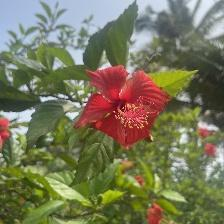hibiscus: (75, 64, 174, 152)
